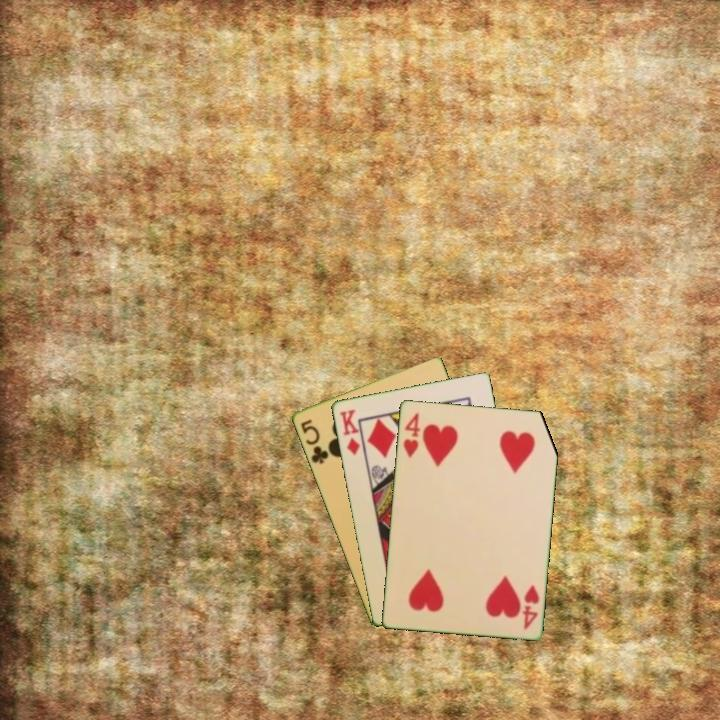4h: (519, 581, 542, 633), (400, 409, 423, 460)
5c: (297, 415, 331, 467)
Kd: (335, 405, 363, 458)
